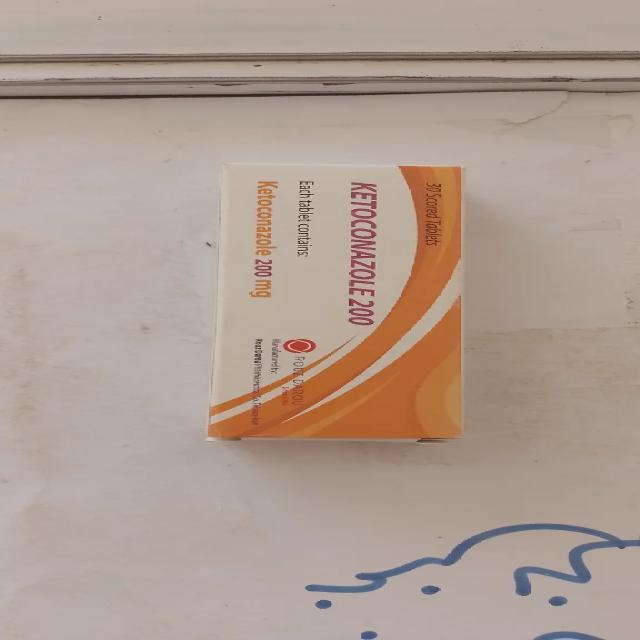drug-name: (345, 175, 381, 330)
